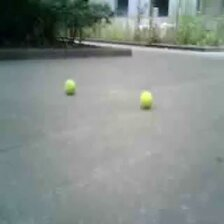tennis: (139, 91, 154, 108), (64, 78, 77, 93)
